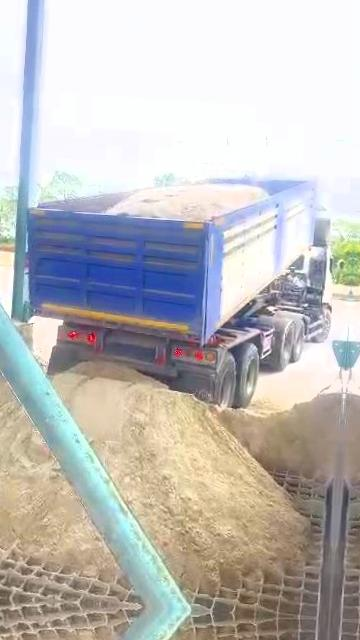sand: (55, 364, 306, 594), (0, 401, 114, 576), (221, 385, 340, 480), (107, 183, 266, 220), (0, 339, 11, 414)
